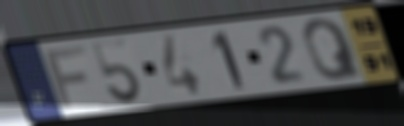1: (210, 29, 247, 91)
2: (259, 24, 310, 87)
4: (162, 32, 205, 98)
5: (88, 36, 146, 107)
F: (41, 43, 90, 112)
Q: (300, 15, 366, 83)
